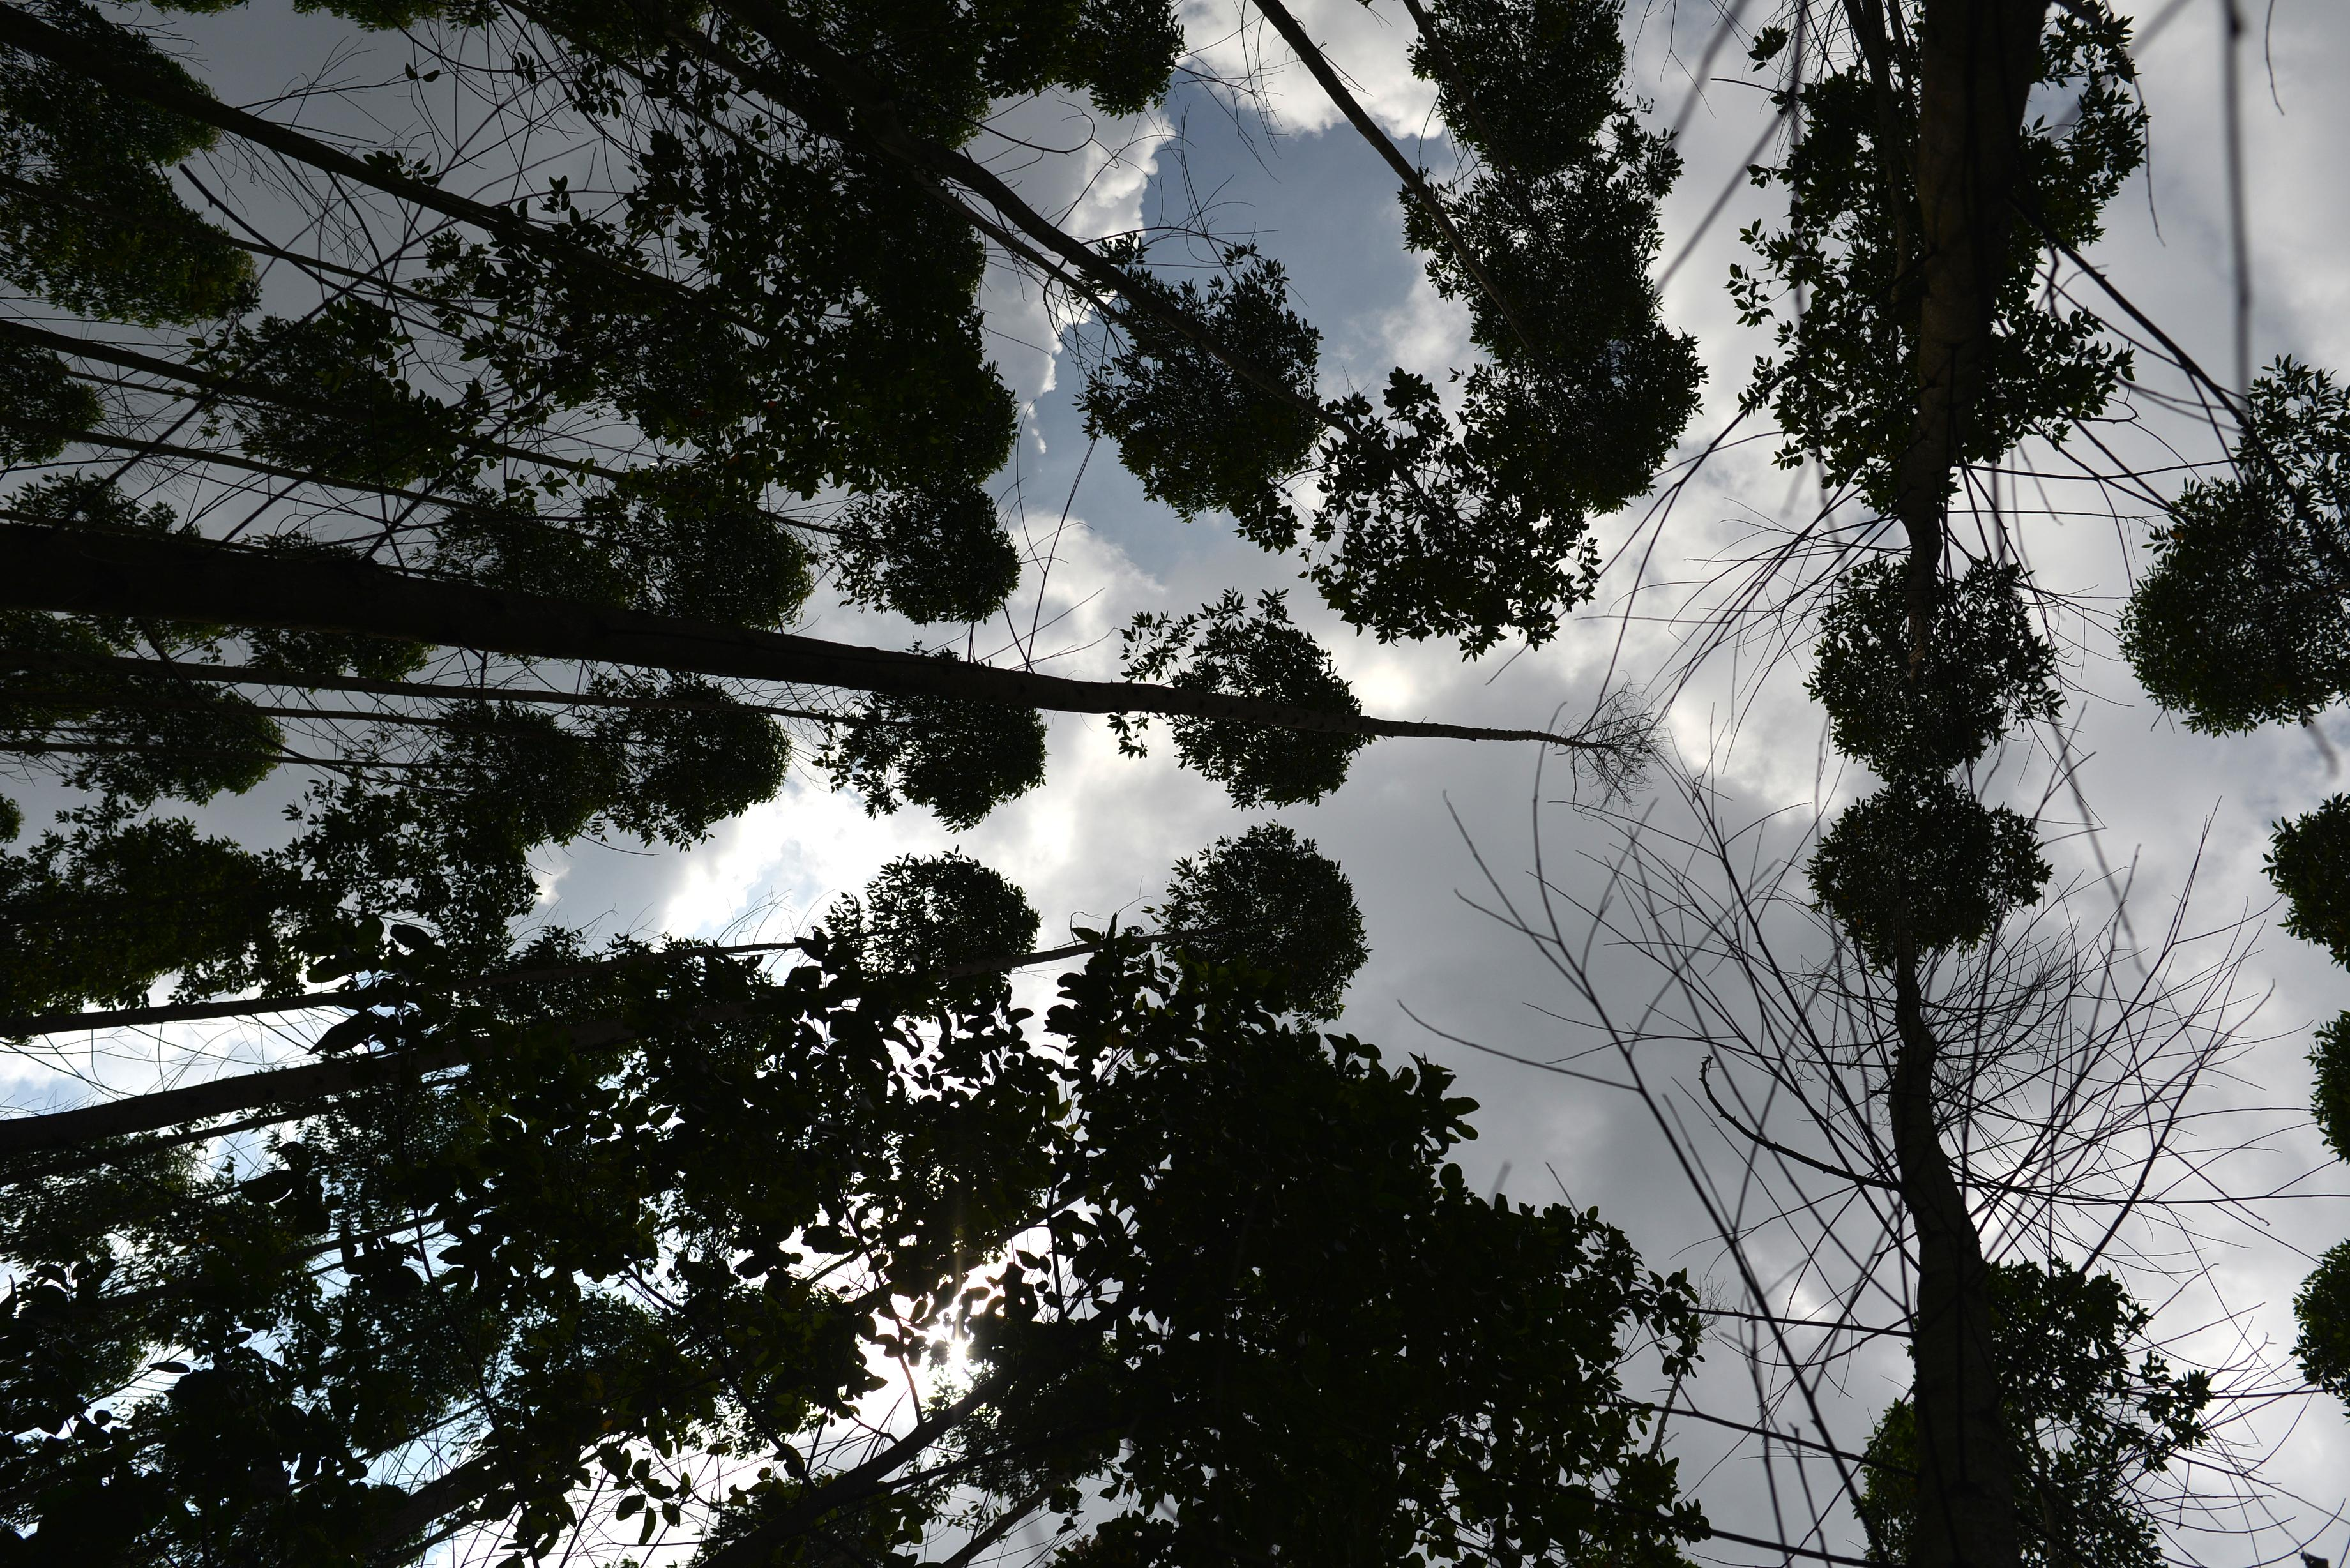Termite: (1564, 674, 1675, 798)
